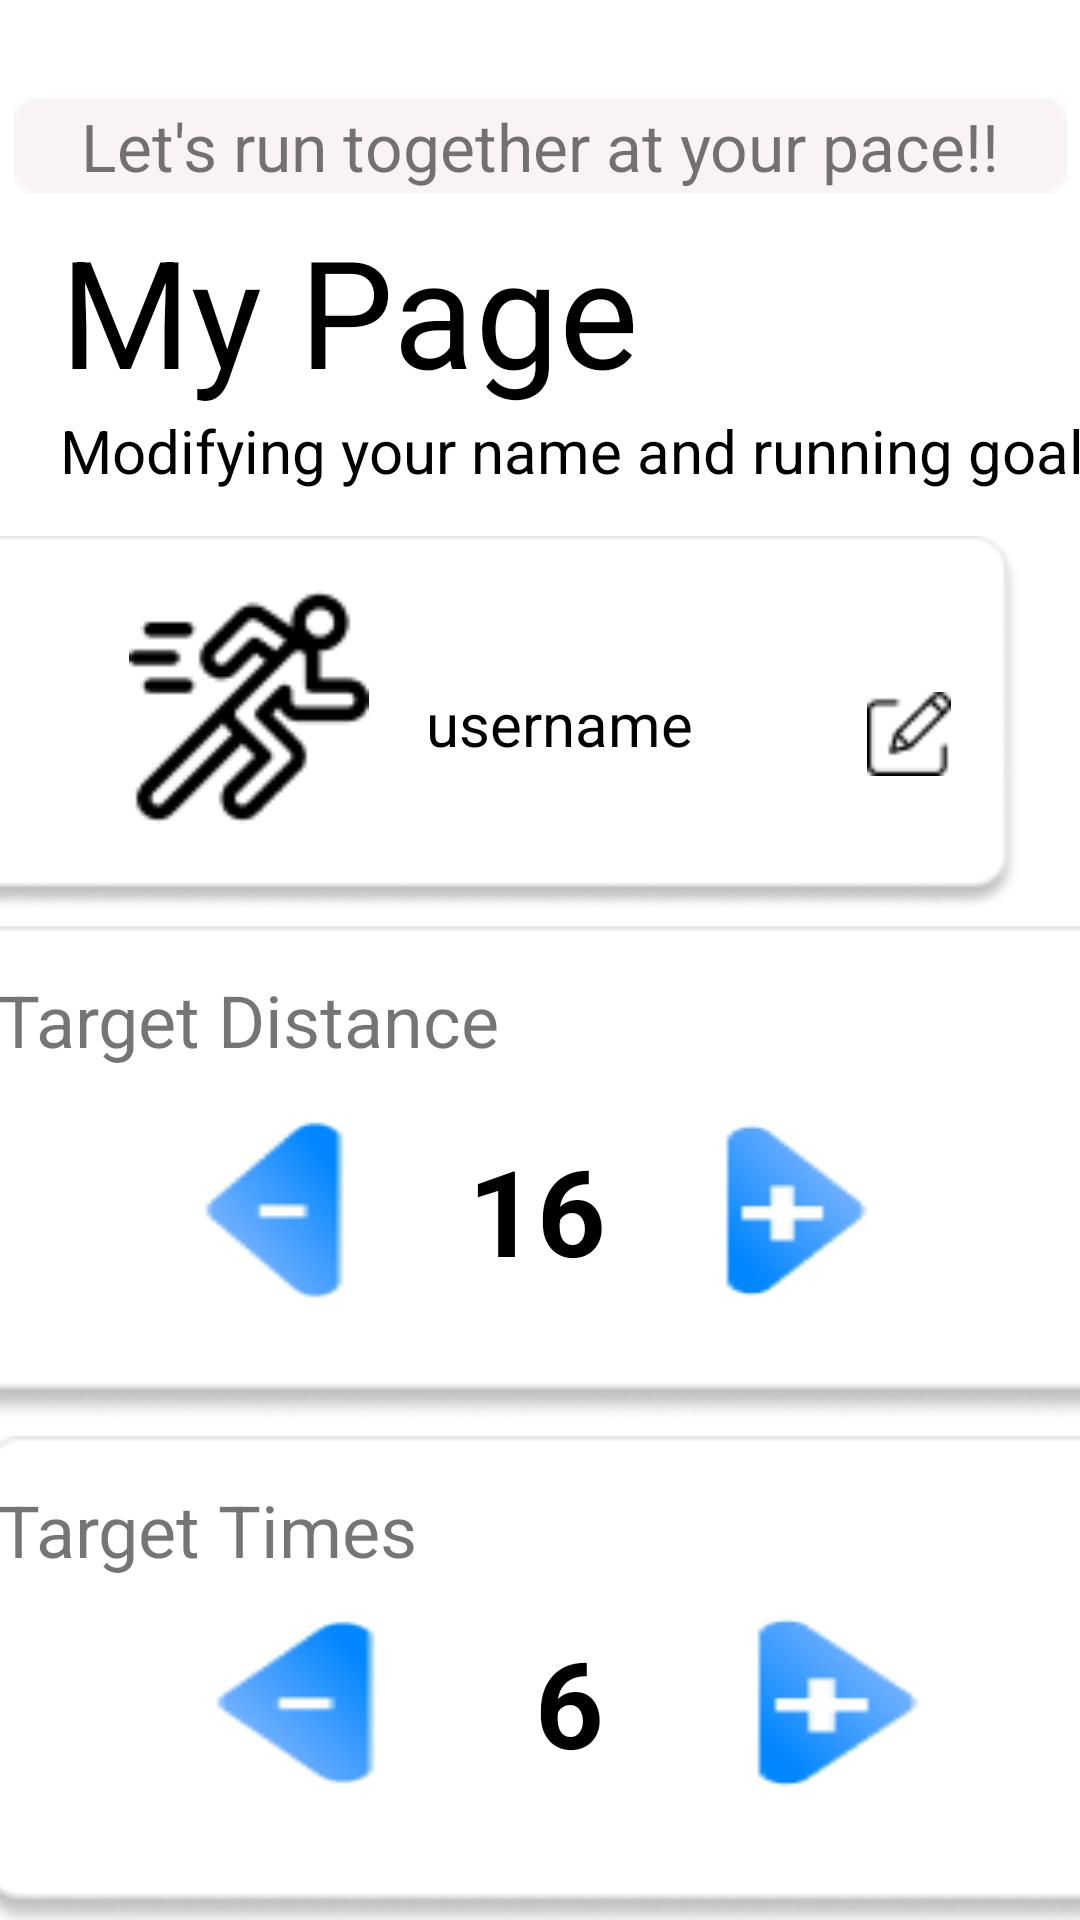

Screen size 1080px×1920px. Icon name, then its center in pixels as (x=x, y=y):
arrowneg: (x=274, y=1210), (x=296, y=1702)
arrowpos: (x=796, y=1210), (x=837, y=1702)
blackman: (x=249, y=707)
edit: (x=909, y=734)
